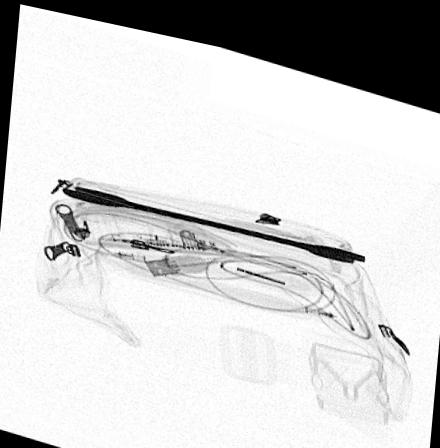Wrench: (59, 184, 363, 246)
